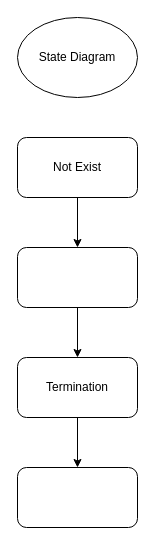
This 155x545 diagram has some shape labels left out. Here are the shapes that lost their labels. From the top down, the box of each, then its label:
(16, 246, 138, 308): Active
(16, 466, 138, 528): Terminated
